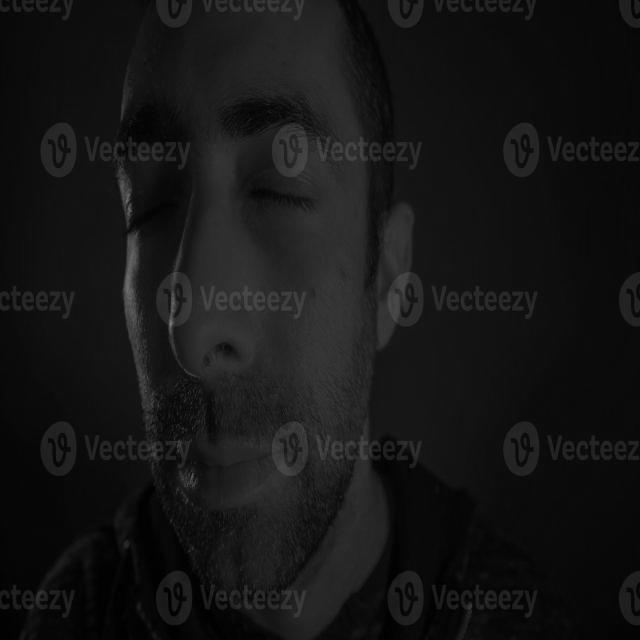real: (99, 76, 416, 599), (102, 96, 348, 270)
